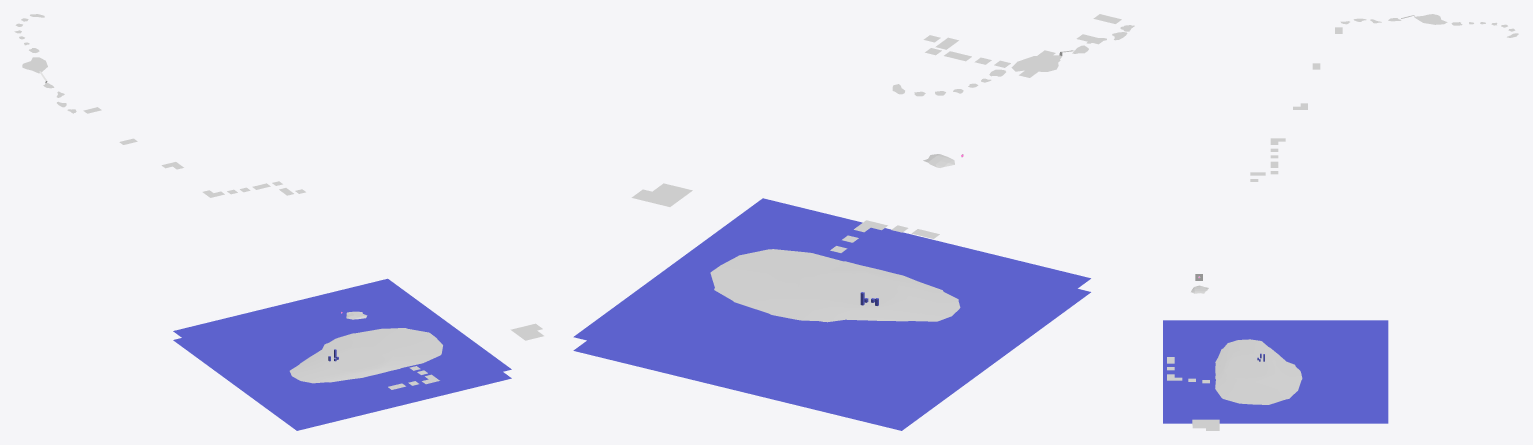
The picture shows the model from 3 angles, left to right: view 1: azimuth 30°, elevation 25°; view 2: azimuth 150°, elevation 25°; view 3: azimuth 270°, elevation 25°; orthographic projection. The views are drawn at different scales.
Parts seen in each view (by area): view 1: Ocean, Beach, BufferPlane; view 2: Ocean, Beach, BufferPlane, Plane.004, Plane3_4; view 3: Ocean, Beach, BufferPlane.
Boxes of the visible parts, <box> form: Ocean: <box>173,278,511,421</box>; Beach: <box>289,328,442,383</box>; BufferPlane: <box>173,338,511,430</box>; Ocean: <box>573,198,1090,417</box>; Beach: <box>710,249,960,322</box>; BufferPlane: <box>573,288,1090,430</box>; Plane.004: <box>1011,45,1088,71</box>; Plane3_4: <box>631,186,692,206</box>; Ocean: <box>1163,320,1388,415</box>; Beach: <box>1215,339,1302,404</box>; BufferPlane: <box>1163,415,1388,423</box>.
Size of the model in its own units: 212 by 147 by 180.
